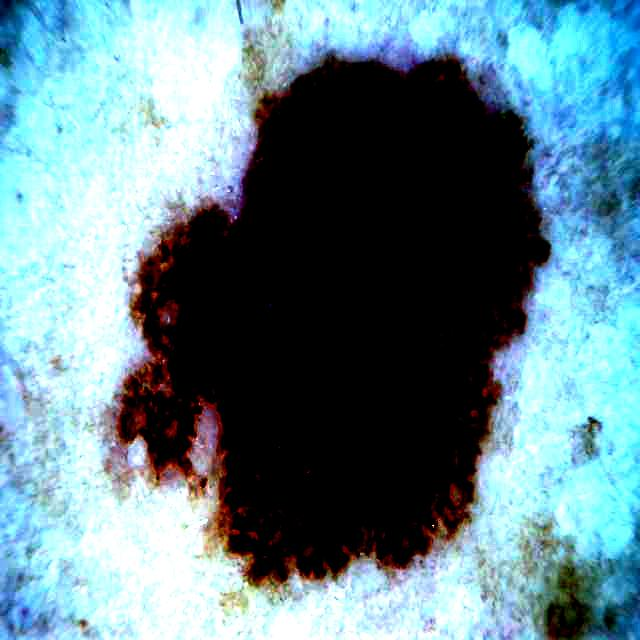BKL: (122, 65, 546, 575)
